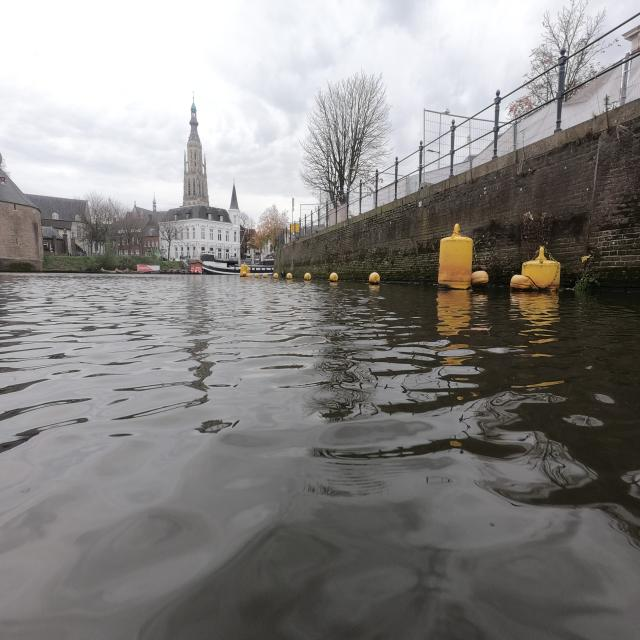grass: (43, 252, 162, 272)
wall: (270, 114, 638, 280), (2, 162, 44, 266)
water: (8, 286, 632, 636)
